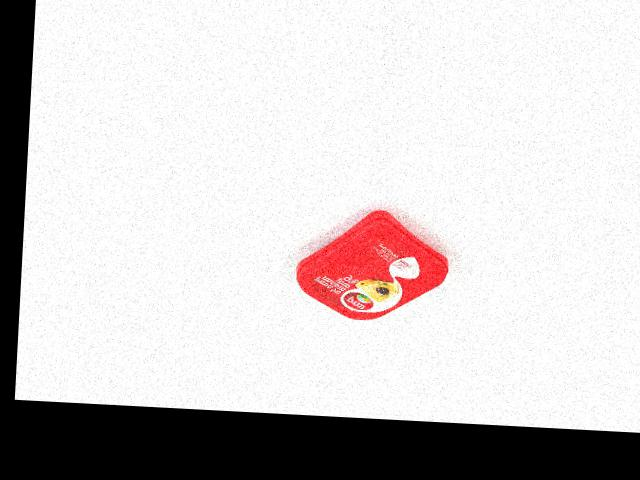cheese: (293, 205, 452, 324)
